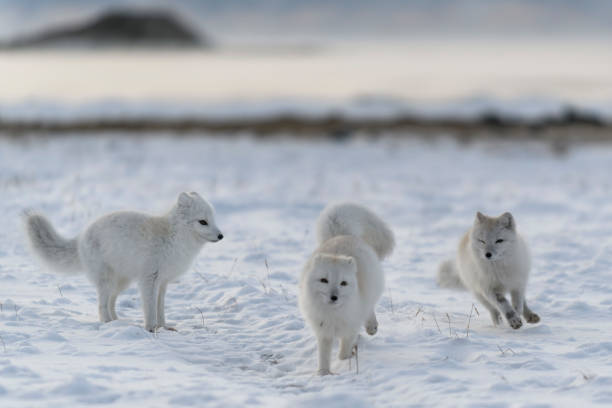arcticfox: (306, 261, 355, 316), (183, 195, 225, 251), (471, 226, 506, 268)
